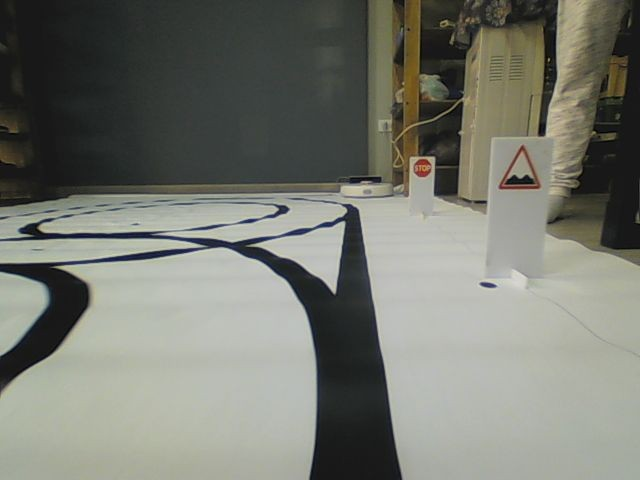Stop: (413, 157, 432, 178)
